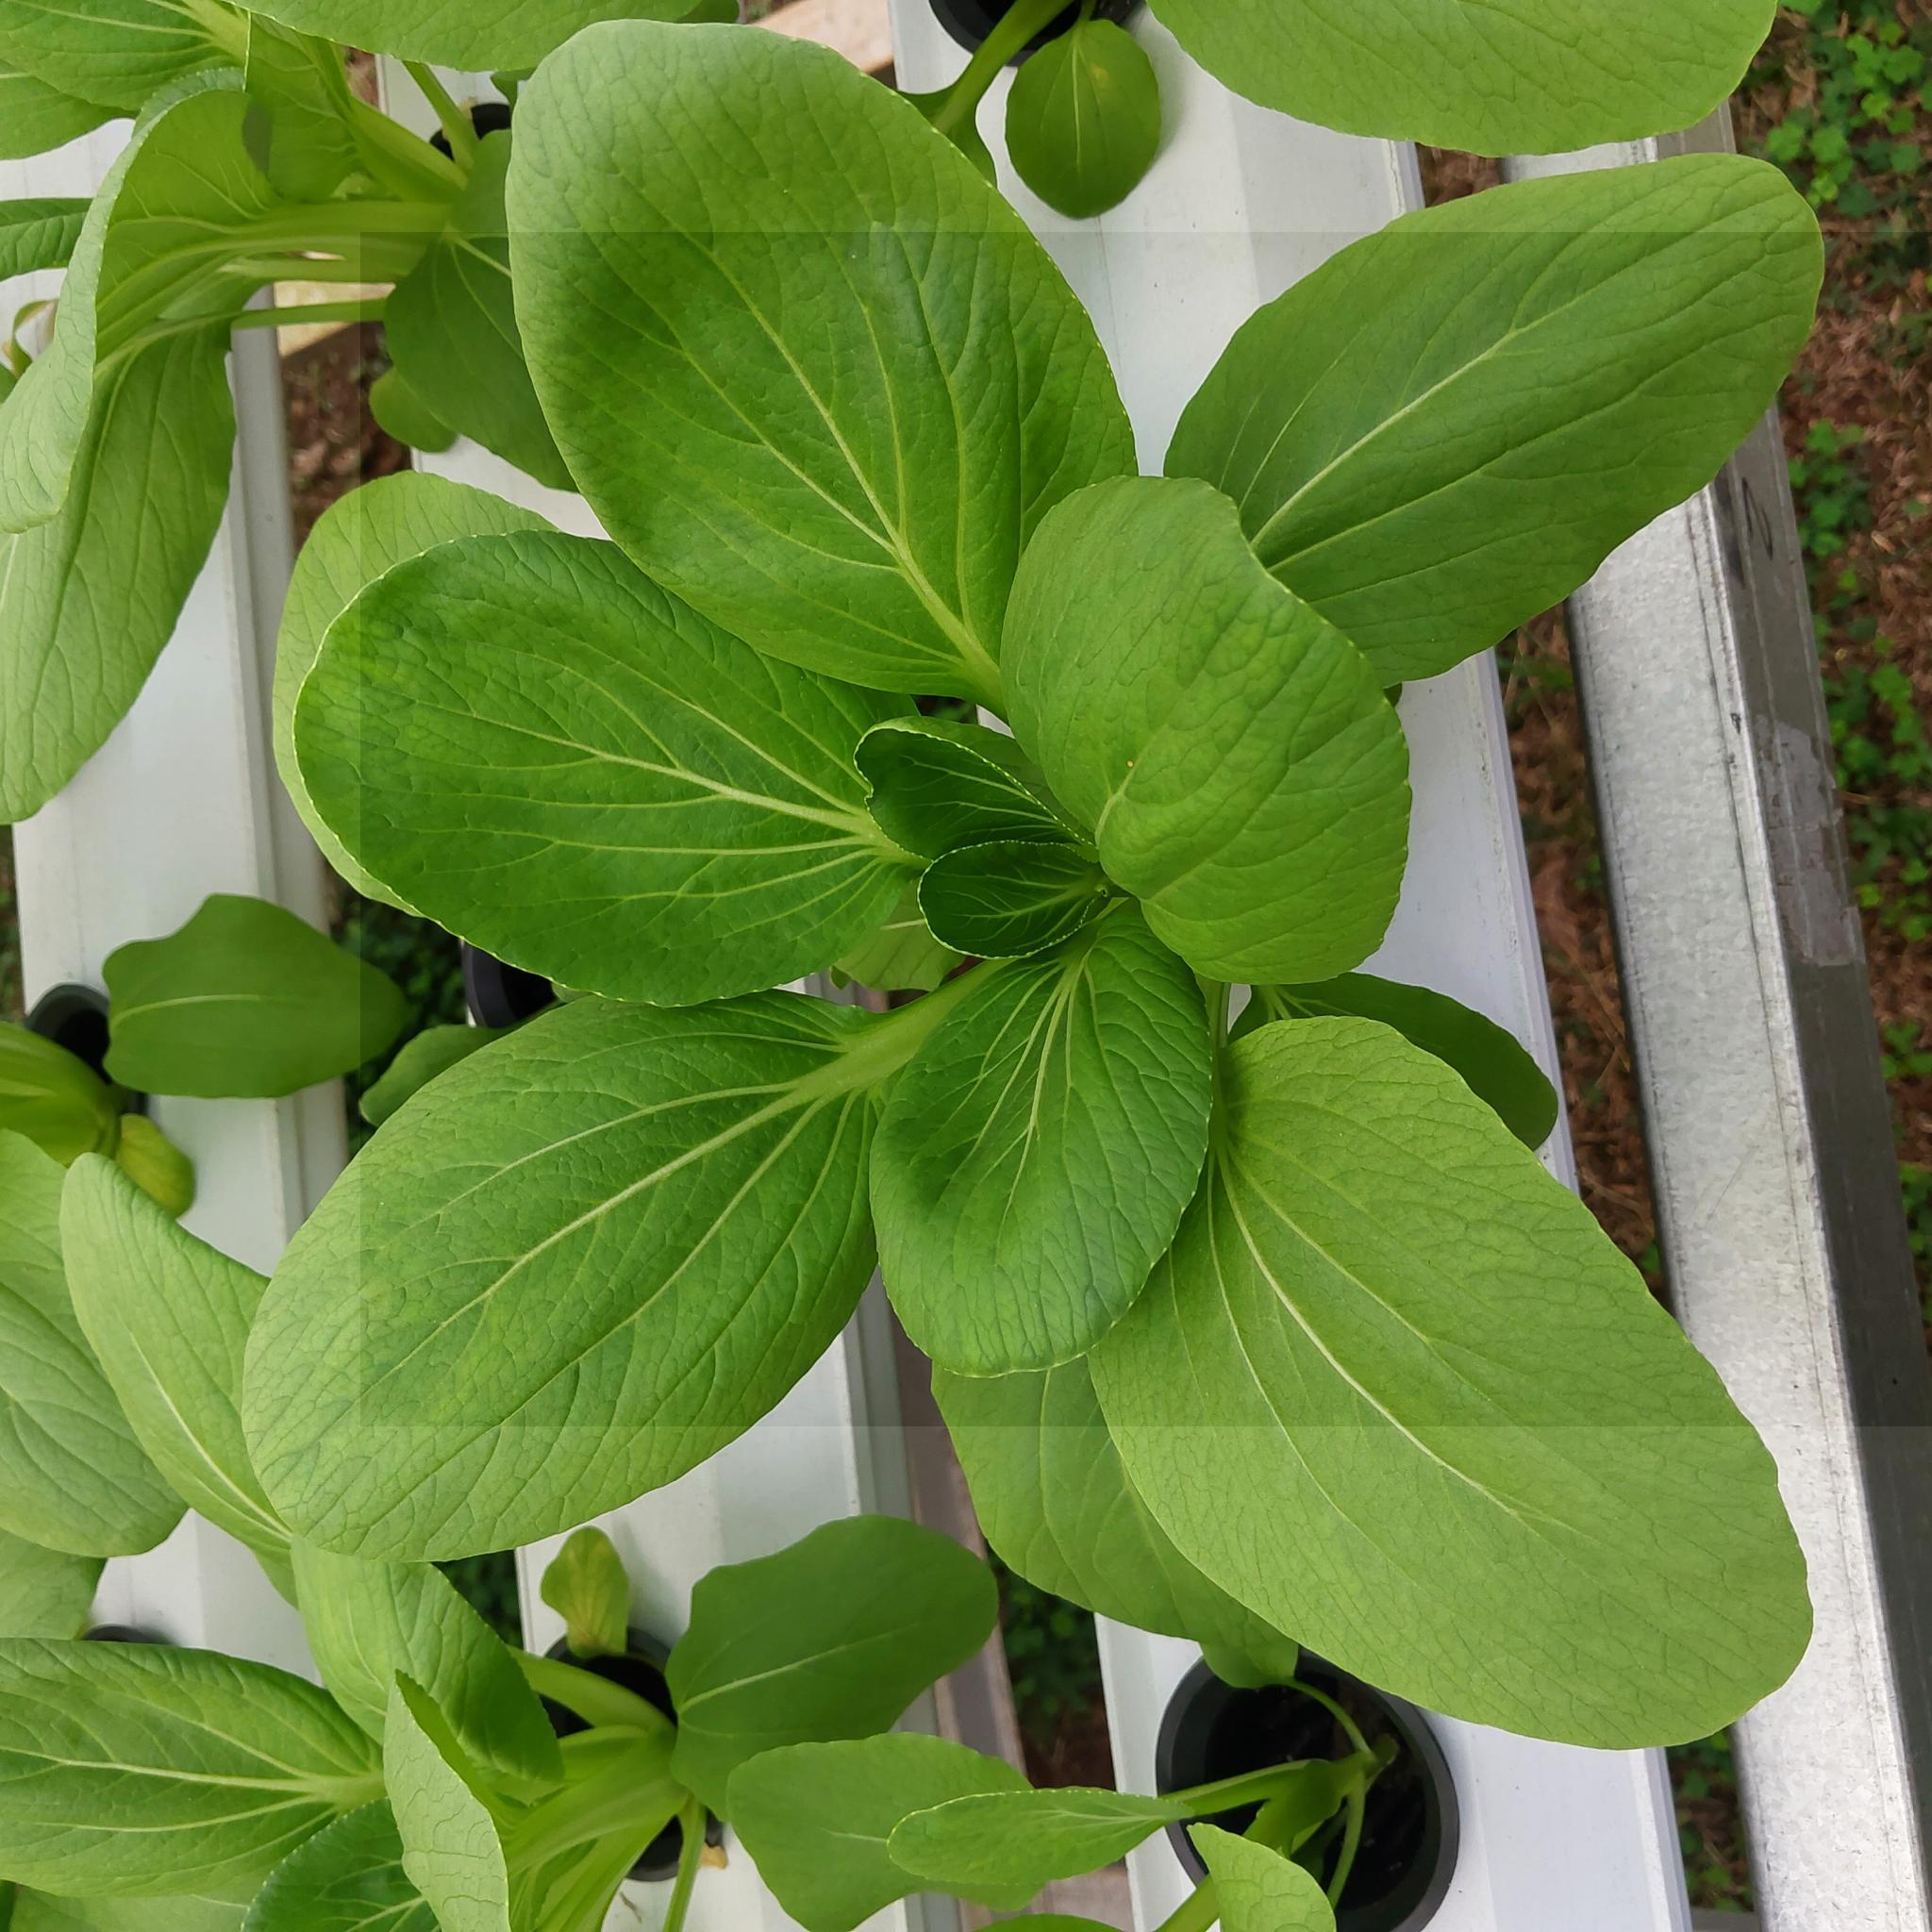Healthy-Pechay: (0, 32, 1644, 1932), (244, 998, 899, 1568), (1155, 149, 1838, 694), (272, 481, 975, 1010), (511, 16, 1014, 743), (0, 1594, 665, 1930), (1023, 474, 1401, 987), (2, 106, 260, 807), (53, 1136, 304, 1576), (372, 120, 580, 494), (94, 899, 412, 1092), (294, 1536, 541, 1776), (1003, 12, 1152, 218), (313, 42, 471, 202), (2, 1012, 129, 1164), (0, 1497, 110, 1647), (0, 64, 138, 159), (207, 283, 412, 336), (0, 196, 92, 297), (1836, 23, 1921, 110), (1805, 122, 1852, 173), (1764, 120, 1808, 165), (1886, 142, 1921, 177)
